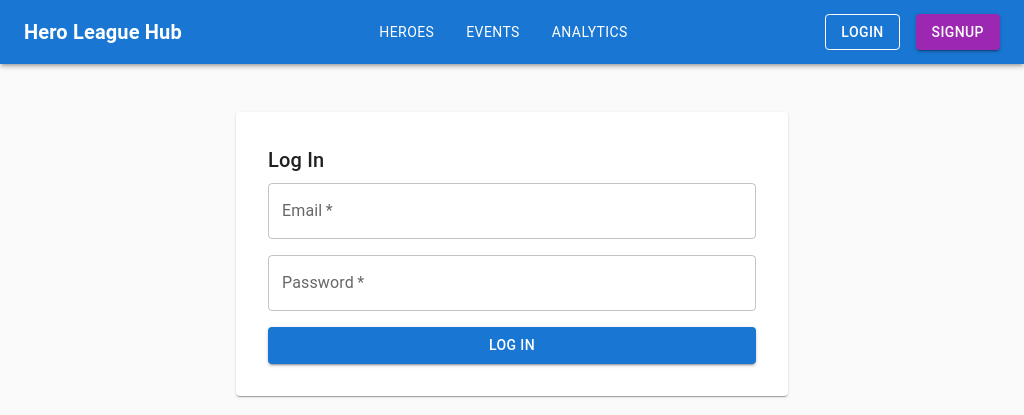
it: logout clears auth and redirects to login
Type "test@example.com" into the field labelled "Email *" at [512, 211], box [268,183,756,239]
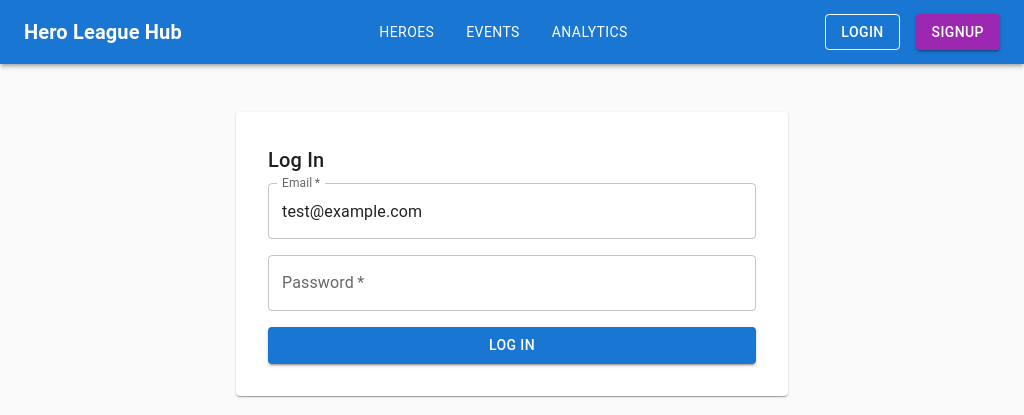
Type "pw123" into the password field labelled "Password *" at [512, 283], box [268,255,756,311]
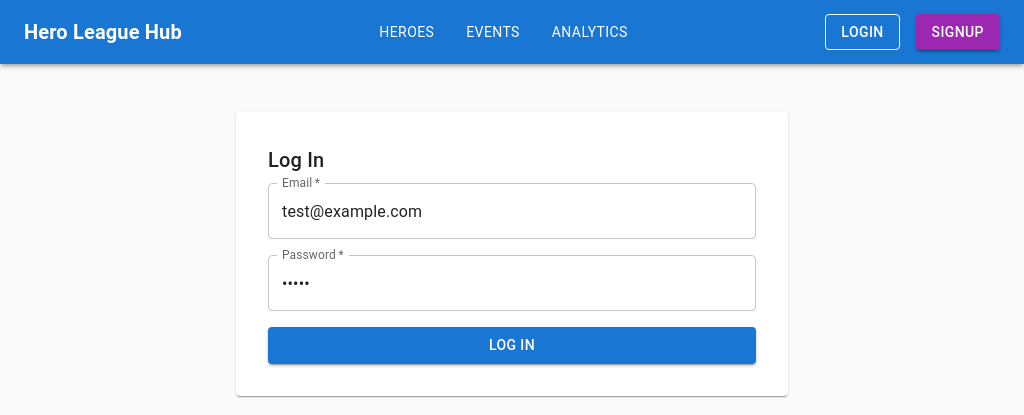
Click the button "Log In" at [512, 345], box [268,327,756,364]
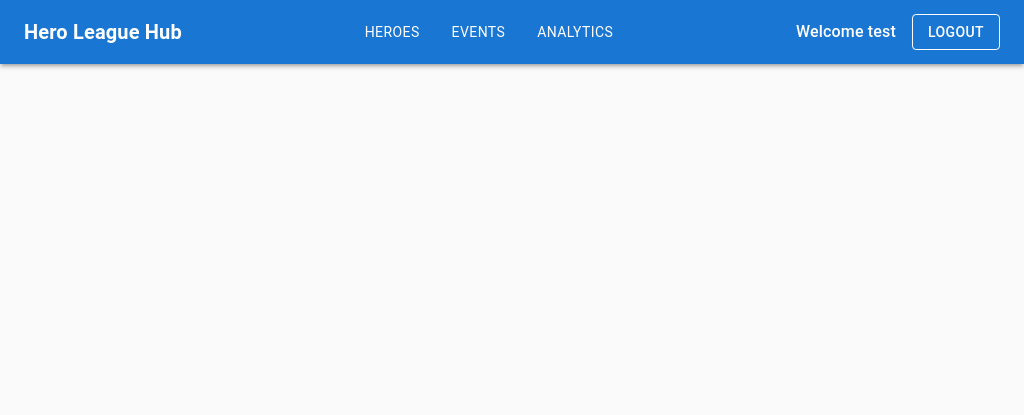
Click the button "Logout" at [956, 32], box [912,14,1000,50]
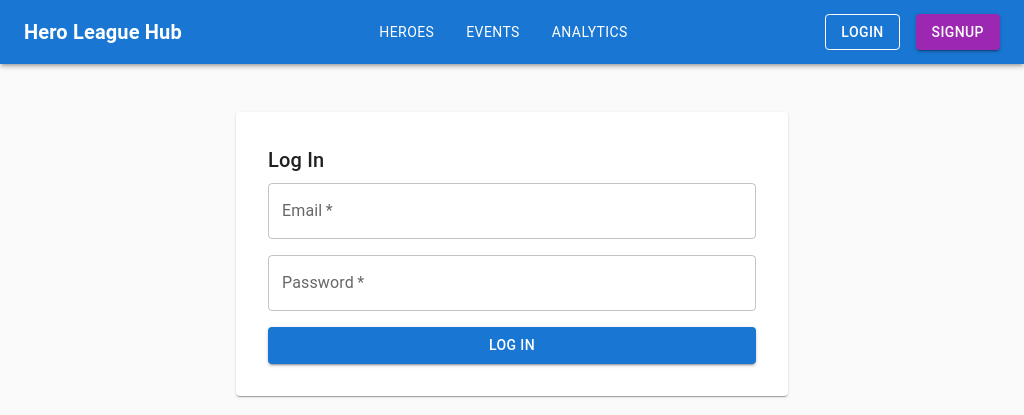
Expected: the button "Log In" is shown, [268,327,756,364]
